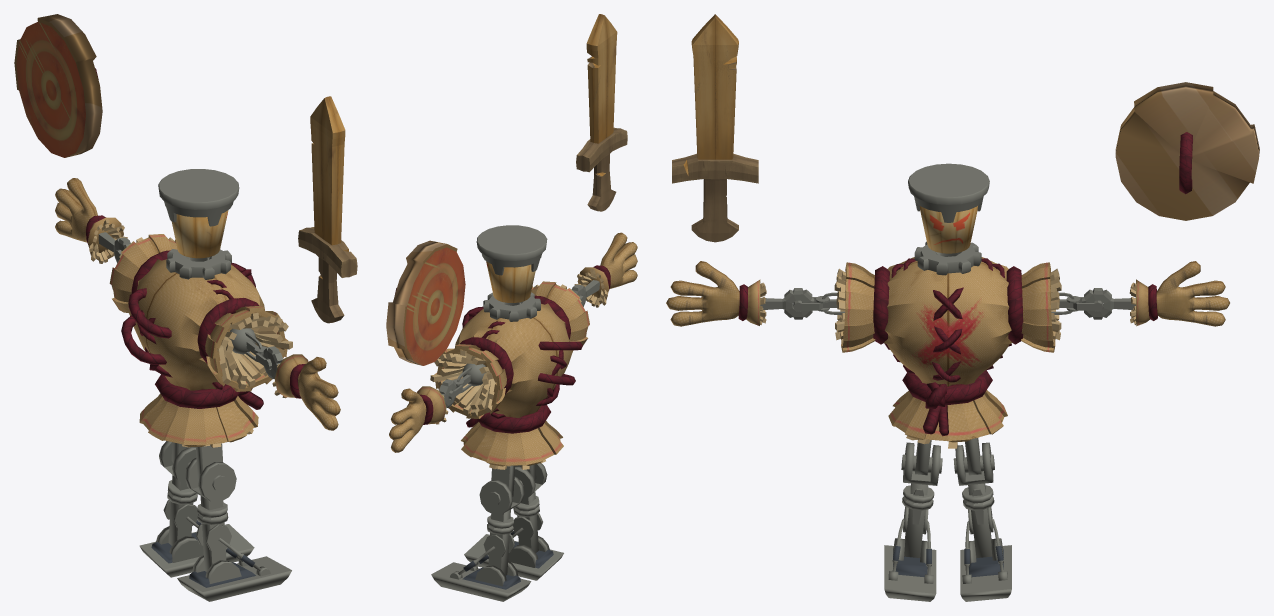
Rendered from дамми.fbx.
The picture shows the model from 3 angles, left to right: view 1: azimuth 30°, elevation 25°; view 2: azimuth 150°, elevation 25°; view 3: azimuth 270°, elevation 25°; orthographic projection. The views are drawn at different scales.
Parts seen in each view (by area): view 1: Цилиндр.051, Куб.007, Куб.016, Куб.014, Куб.013, Куб.010, Куб.012, Цилиндр.021, ТраекторияNurbs.041, Цилиндр.015, Цилиндр.020, Цилиндр.018 (+12 smaller); view 2: Цилиндр.051, Куб.007, Куб.016, Куб.014, Куб.013, Куб.010, Куб.012, Цилиндр.021, ТраекторияNurbs.041, Цилиндр.015, Цилиндр.020, Цилиндр.018 (+12 smaller); view 3: Цилиндр.051, Куб.007, Куб.016, Куб.014, Куб.012, Куб.010, Куб.013, Цилиндр.021, ОкружностьБезье.001, Цилиндр.020, Цилиндр.015, Цилиндр.023 (+8 smaller).
Part boxes in pixels (x1,y1,x2,y2): Цилиндр.051: [14, 14, 102, 157]; Куб.007: [129, 259, 264, 390]; Куб.016: [298, 96, 357, 323]; Куб.014: [55, 178, 340, 430]; Куб.013: [139, 393, 258, 446]; Куб.010: [139, 524, 291, 601]; Куб.012: [109, 234, 288, 391]; Цилиндр.021: [158, 169, 239, 226]; ТраекторияNurbs.041: [111, 237, 292, 389]; Цилиндр.015: [159, 441, 236, 501]; Цилиндр.020: [171, 210, 228, 261]; Цилиндр.018: [156, 526, 241, 583]; Цилиндр.051: [386, 240, 465, 365]; Куб.007: [454, 303, 573, 417]; Куб.016: [576, 14, 627, 211]; Куб.014: [389, 232, 637, 452]; Куб.013: [461, 421, 563, 466]; Куб.010: [431, 534, 563, 601]; Куб.012: [434, 281, 589, 418]; Цилиндр.021: [476, 225, 547, 275]; ТраекторияNurbs.041: [430, 284, 588, 416]; Цилиндр.015: [479, 463, 547, 514]; Цилиндр.020: [486, 261, 535, 305]; Цилиндр.018: [475, 536, 549, 586]; Цилиндр.051: [1115, 82, 1259, 220]; Куб.007: [884, 257, 1012, 386]; Куб.016: [672, 14, 758, 242]; Куб.014: [666, 261, 1229, 326]; Куб.012: [841, 262, 1055, 352]; Куб.010: [884, 545, 1011, 601]; Куб.013: [888, 390, 1007, 442]; Цилиндр.021: [908, 163, 989, 222]; ОкружностьБезье.001: [873, 266, 1023, 344]; Цилиндр.020: [919, 206, 977, 256]; Цилиндр.015: [903, 442, 993, 485]; Цилиндр.023: [760, 288, 1135, 319].
Size of the model in its own units: 265 by 1081 by 1025.
Materials: 8 (6 with a texture image).
